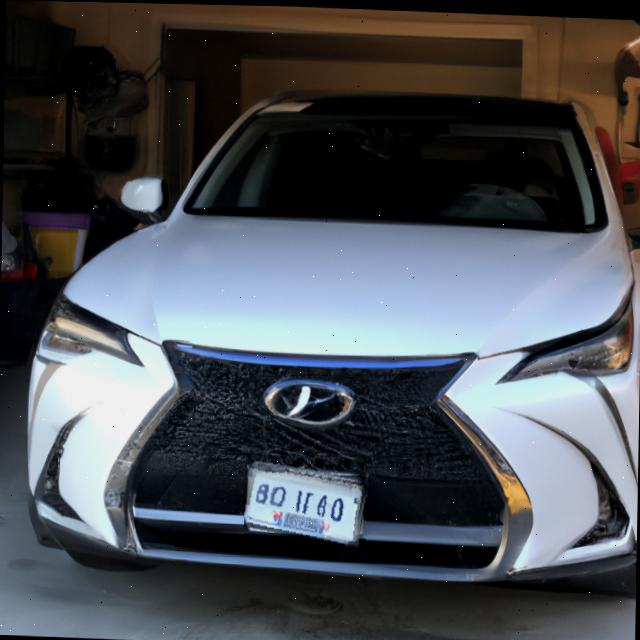LicensePlate: (244, 461, 366, 544)
